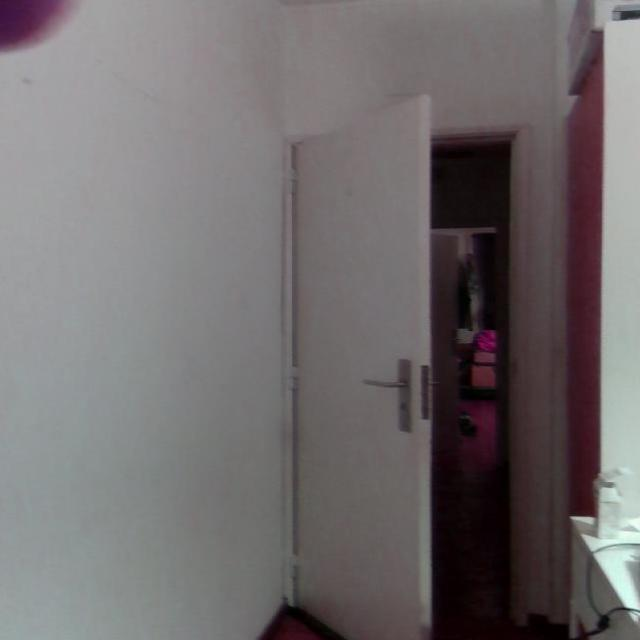door: (289, 92, 434, 638)
